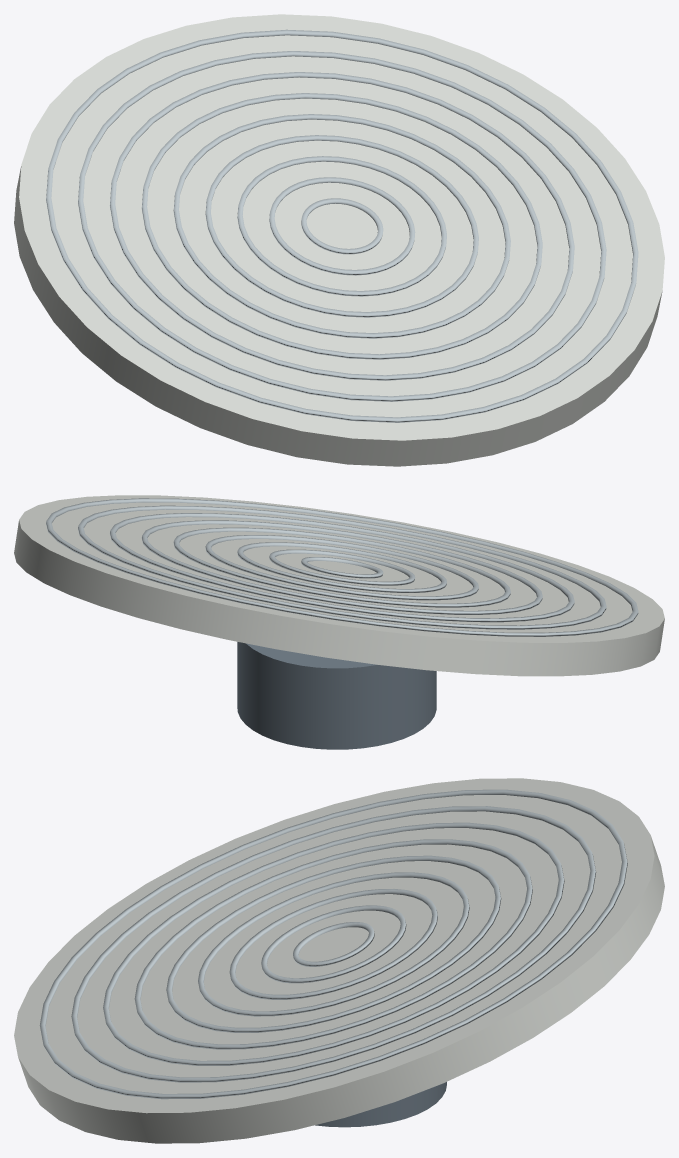
The model's file is dart_rlsa_antenna.glb.
3 renders of one model, top to bottom at view 1: azimuth 30°, elevation 25°; view 2: azimuth 150°, elevation 25°; view 3: azimuth 270°, elevation 25°, orthographic. The views are drawn at different scales.
Visible parts, largest first — view 1: dart_rlsaazimuthelevationmesh_Pale_thermal_blanket, dart_rlsaazimuthelevationmesh_Satin_aluminum; view 2: dart_rlsaazimuthelevationmesh_Pale_thermal_blanket, dart_rlsaazimuthelevationmesh_Satin_aluminum, dart_rlsaazimuthmesh_Machined_steel; view 3: dart_rlsaazimuthelevationmesh_Pale_thermal_blanket, dart_rlsaazimuthelevationmesh_Satin_aluminum, dart_rlsaazimuthmesh_Machined_steel.
Part boxes in pixels (<box>): dart_rlsaazimuthelevationmesh_Pale_thermal_blanket: <box>14,14,664,466</box>; dart_rlsaazimuthelevationmesh_Satin_aluminum: <box>46,29,638,422</box>; dart_rlsaazimuthelevationmesh_Pale_thermal_blanket: <box>14,495,664,676</box>; dart_rlsaazimuthelevationmesh_Satin_aluminum: <box>46,498,638,636</box>; dart_rlsaazimuthmesh_Machined_steel: <box>237,642,436,749</box>; dart_rlsaazimuthelevationmesh_Pale_thermal_blanket: <box>14,778,664,1143</box>; dart_rlsaazimuthelevationmesh_Satin_aluminum: <box>39,789,627,1099</box>; dart_rlsaazimuthmesh_Machined_steel: <box>315,1082,446,1127</box>.
Size of the model in its own units: 0.648 by 0.2432 by 0.6291.
